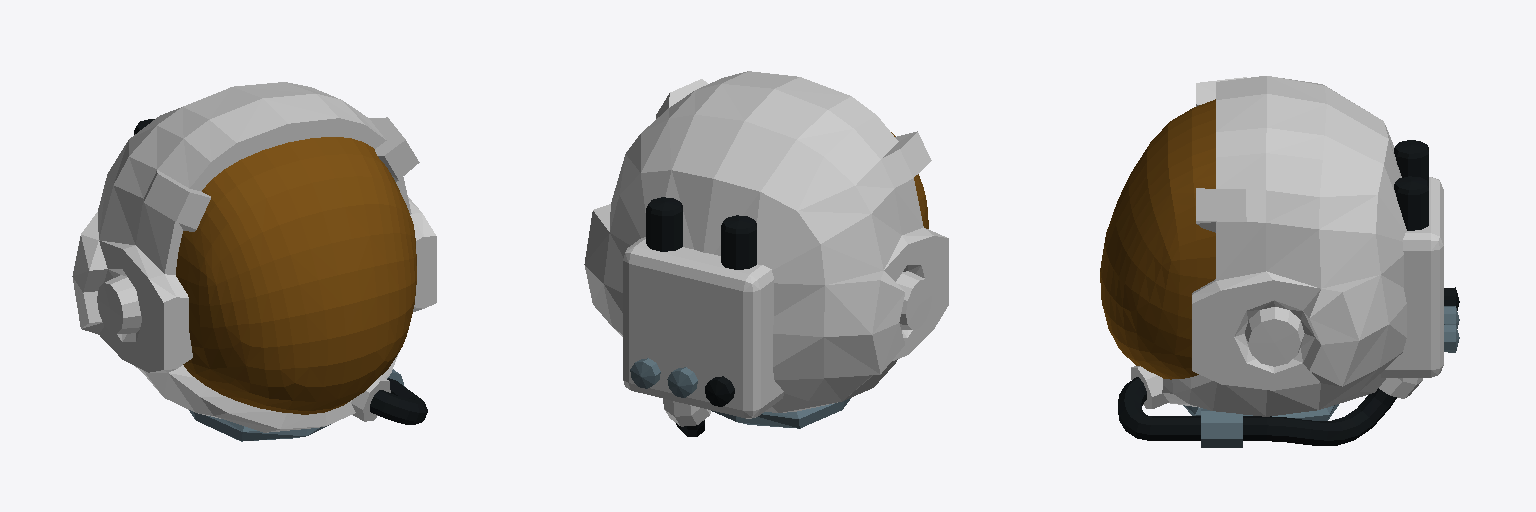
Rendered from helmet_A_visor_opaque.obj.
The picture shows the model from 3 angles: view 1: azimuth 30°, elevation 25°; view 2: azimuth 150°, elevation 25°; view 3: azimuth 270°, elevation 25°; orthographic projection.
Visible parts, largest first — view 1: helmet_A_visor_opaque_Roundcube.099; view 2: helmet_A_visor_opaque_Roundcube.099; view 3: helmet_A_visor_opaque_Roundcube.099.
Boxes of the visible parts, <box> form: helmet_A_visor_opaque_Roundcube.099: <box>72,82,436,441</box>; helmet_A_visor_opaque_Roundcube.099: <box>584,71,948,436</box>; helmet_A_visor_opaque_Roundcube.099: <box>1100,76,1459,447</box>.
Bounding box in the file's own units: 1.36 × 1.39 × 1.39.